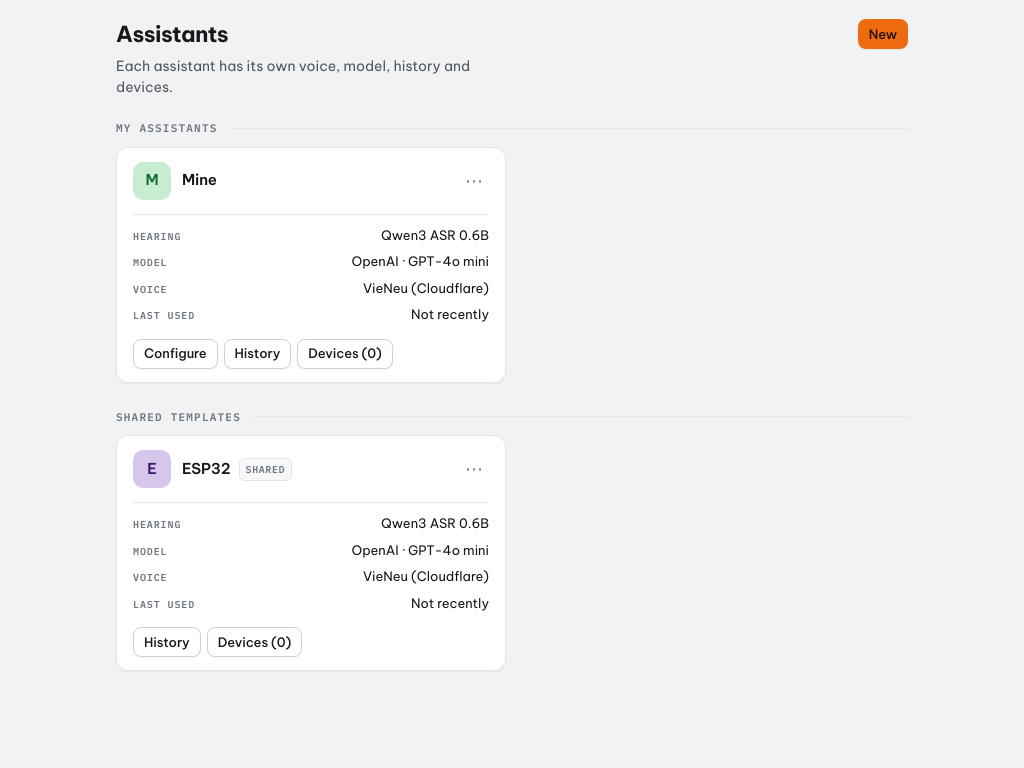
Scenario: warns that deleting unassigns devices rather than revoking them
Check: the text "Mine" is shown, box [182,170,217,189]
What coordinates should you click on to do the following:
click the button with class "menu__trigger" in the row of "Mine"
I would click on:
 (474, 180)
Its box is [459,166,489,196].
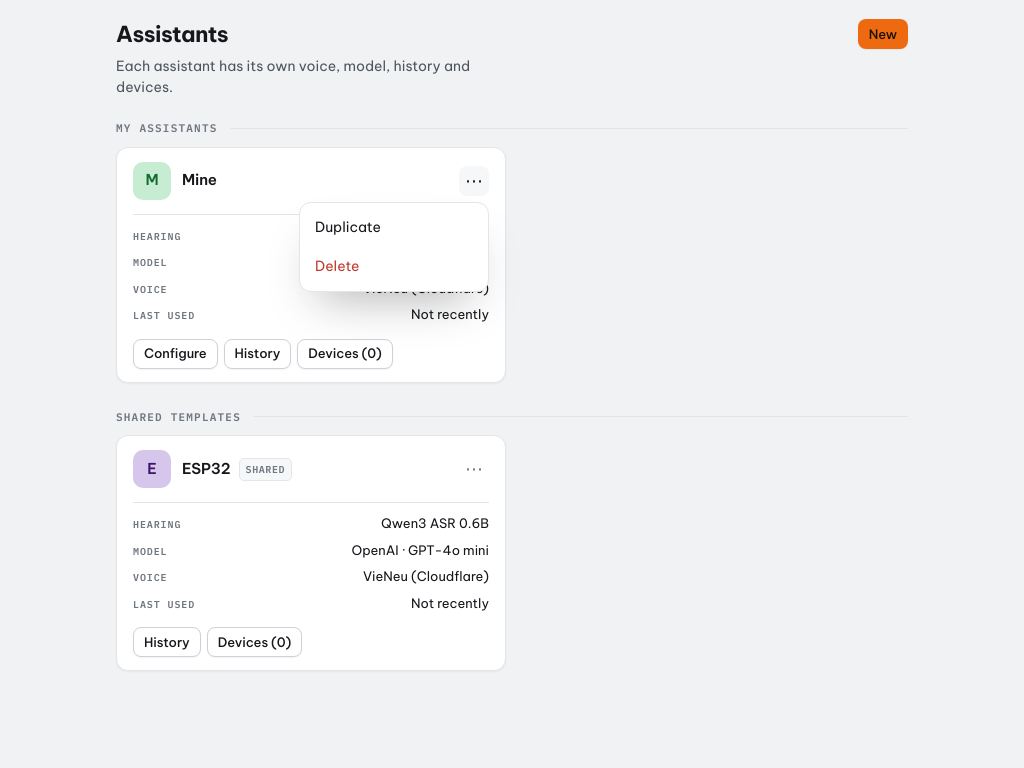
What coordinates should you click on to do the following:
click the menu item "Delete"
I would click on:
 (394, 266)
Its box is [305,246,483,286].
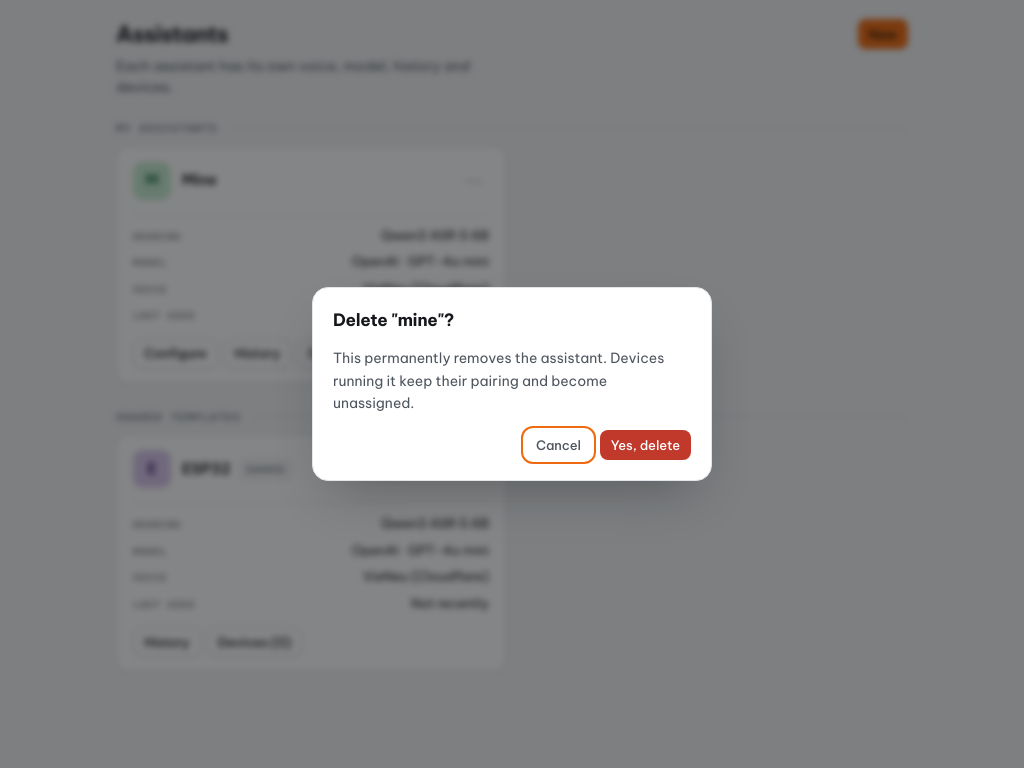
Check: the text "keep their pairing and become unassigned" is shown, box [333,349,664,412]
